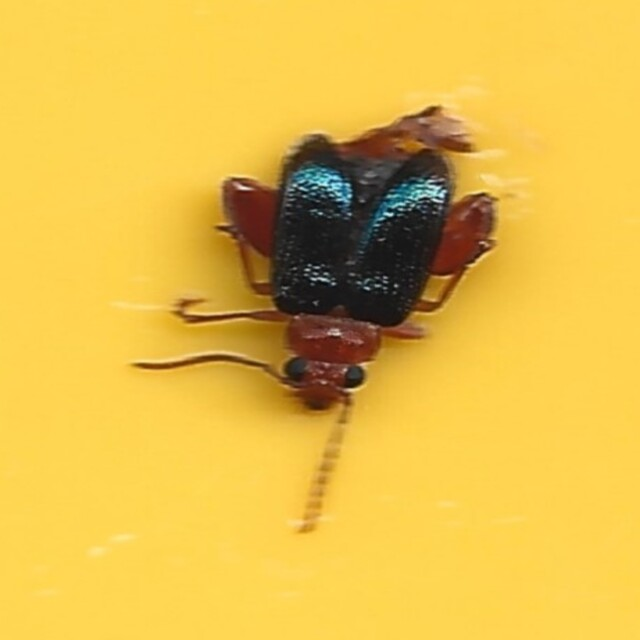Coleoptera: (139, 108, 501, 532)
